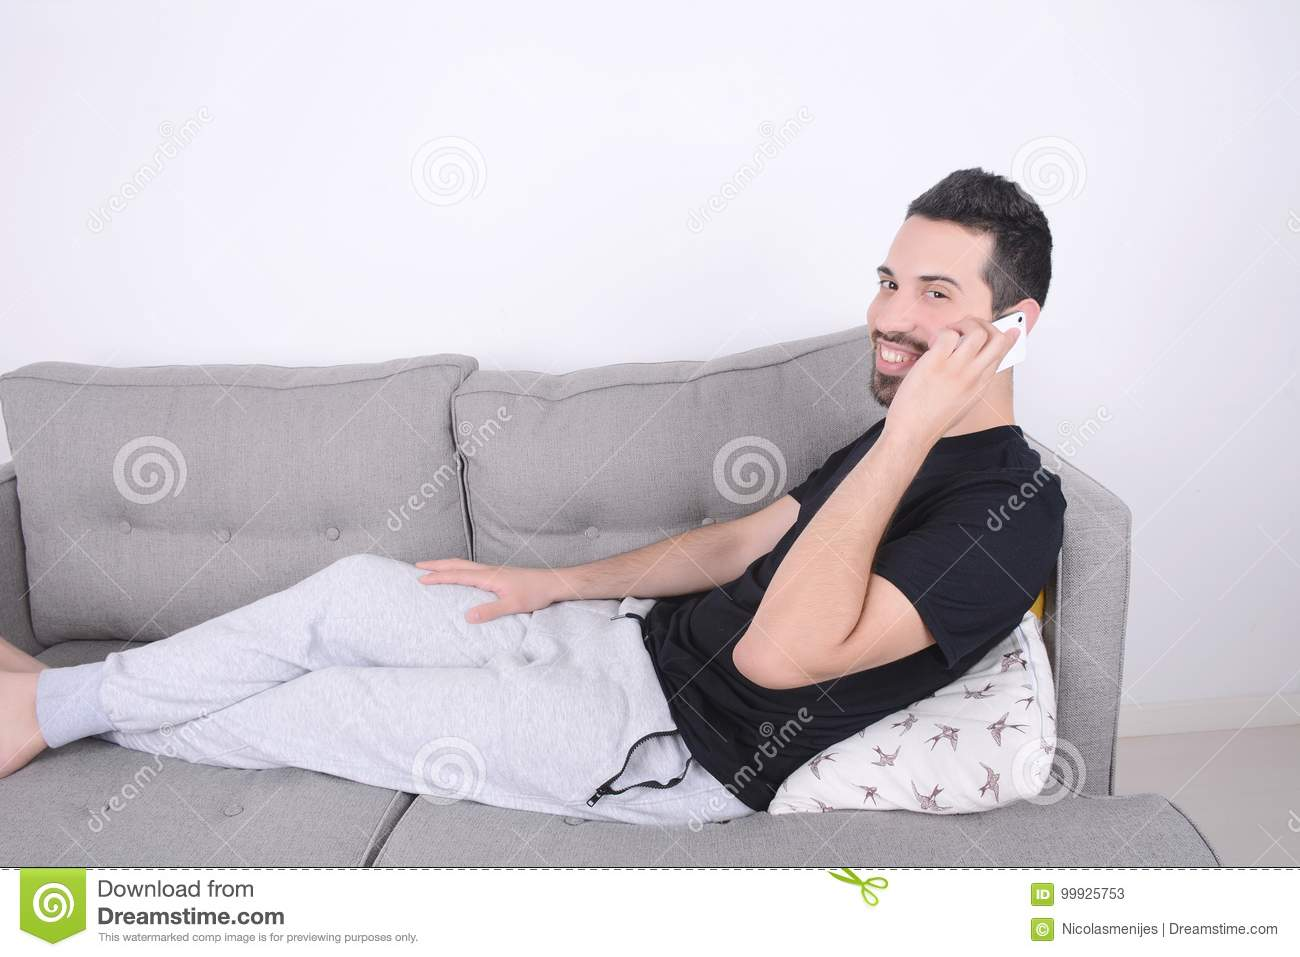phone: (940, 310, 1030, 392)
talk: (865, 254, 1030, 435)
